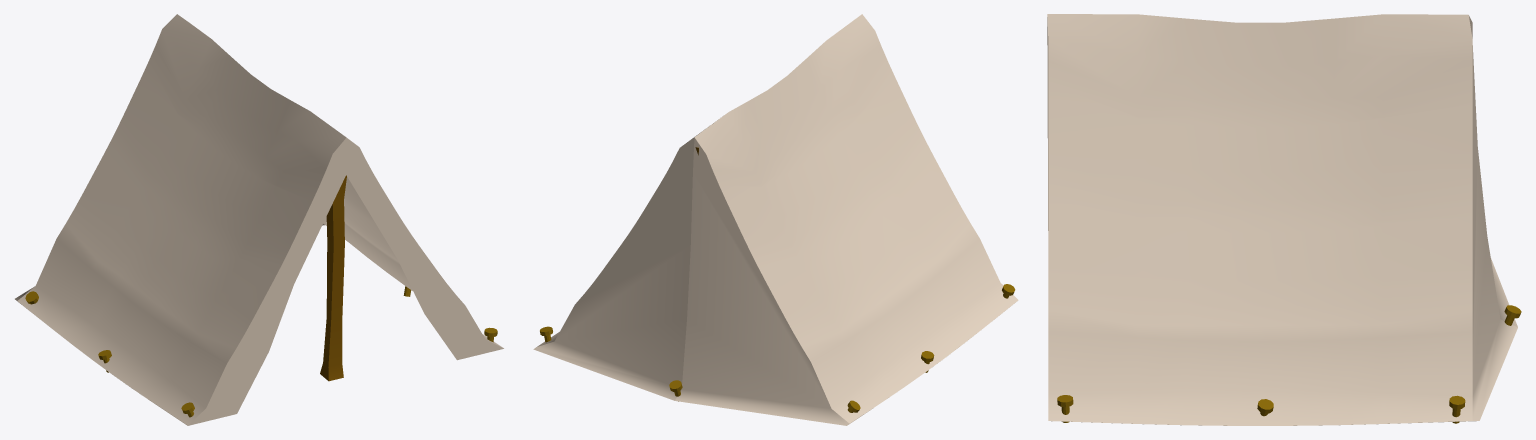
Rendered from Camp1.fbx.
The picture shows the model from 3 angles, left to right: view 1: azimuth 30°, elevation 25°; view 2: azimuth 150°, elevation 25°; view 3: azimuth 270°, elevation 25°; orthographic projection. The views are drawn at different scales.
Parts seen in each view (by area): view 1: pPlane2; view 2: pPlane2; view 3: pPlane2.
Part boxes in pixels (box(x1,y1,x2,y2)): pPlane2: box(15, 14, 503, 425); pPlane2: box(533, 14, 1018, 425); pPlane2: box(1047, 14, 1521, 425).
Bounding box in the file's own units: 14.37 × 11.21 × 14.85.
